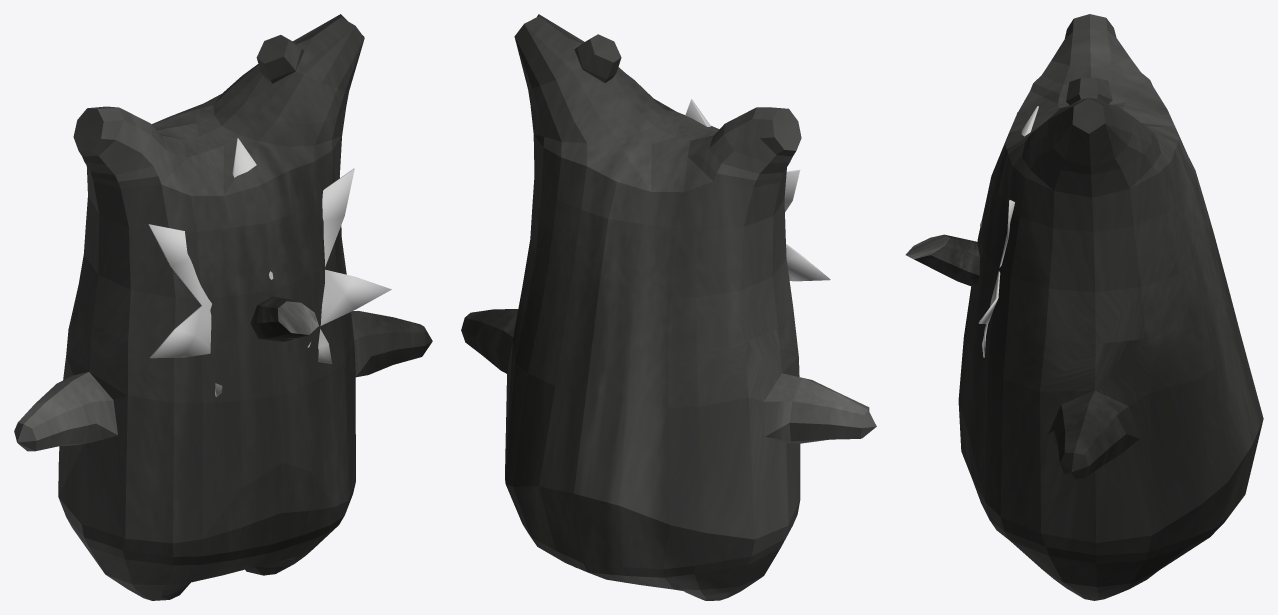
Rendered from frame_0001.obj.
3 renders of one model, left to right at view 1: azimuth 30°, elevation 25°; view 2: azimuth 150°, elevation 25°; view 3: azimuth 270°, elevation 25°, orthographic.
Visible parts, largest first — view 1: korok, leaf, nose; view 2: korok, leaf; view 3: korok, nose, leaf.
Part boxes in pixels (<box>): korok: <box>14,14,432,600</box>; leaf: <box>148,138,391,396</box>; nose: <box>250,296,318,341</box>; korok: <box>461,14,876,600</box>; leaf: <box>685,99,830,281</box>; korok: <box>958,14,1263,600</box>; nose: <box>905,234,979,287</box>; leaf: <box>978,106,1038,357</box>.
Bounding box in the file's own units: 1.81 × 2.25 × 1.37.
